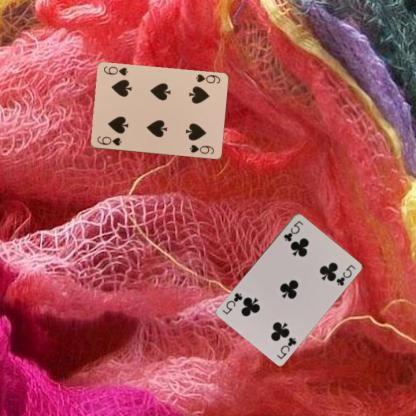5c: (274, 334, 297, 360), (281, 218, 304, 242)
6s: (94, 133, 123, 147), (193, 72, 221, 85)
